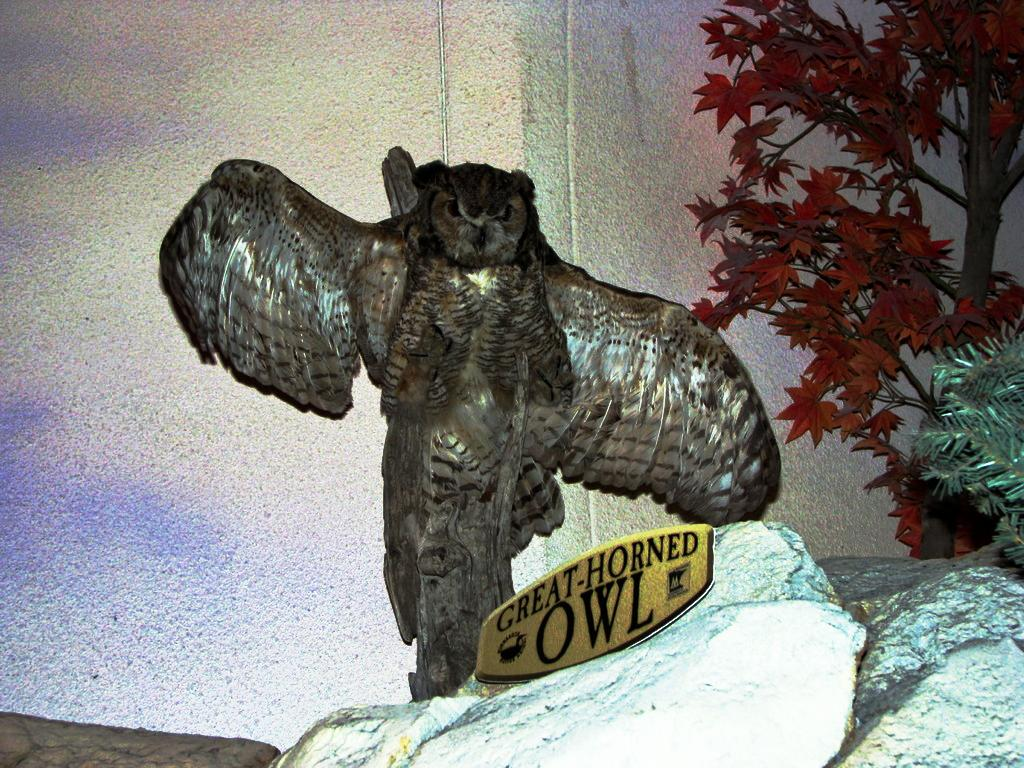Owl: (158, 145, 790, 703)
